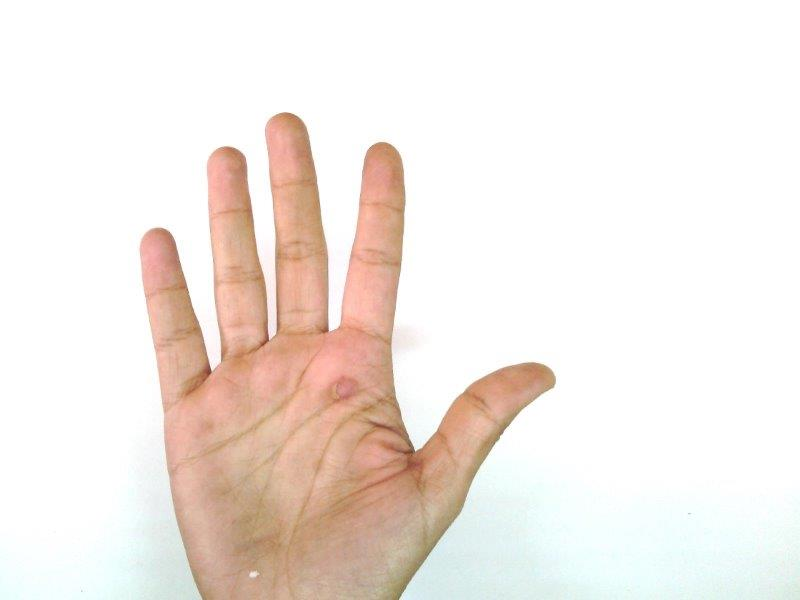hand: (142, 114, 557, 599)
